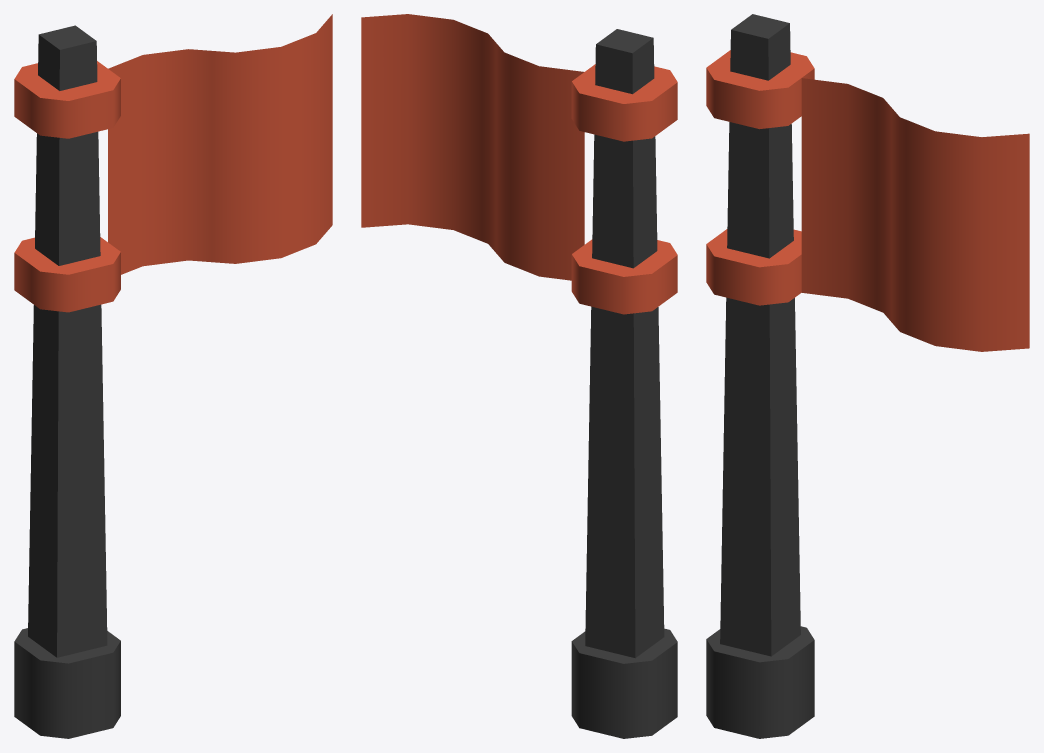
The model's file is CheckpointFlag.fbx.
3 views of the same model, side by side, from view 1: azimuth 30°, elevation 25°; view 2: azimuth 150°, elevation 25°; view 3: azimuth 330°, elevation 25° (orthographic). The views are drawn at different scales.
Parts seen in each view (by area): view 1: flag_flag; view 2: flag_flag; view 3: flag_flag.
Boxes of the visible parts, left/top/right/bottom form: flag_flag: left=14, top=14, right=332, bottom=738; flag_flag: left=361, top=14, right=677, bottom=738; flag_flag: left=706, top=14, right=1029, bottom=738.
Size of the model in its own units: 42.35 by 90 by 11.2.
Materials: 1 (1 with a texture image).
